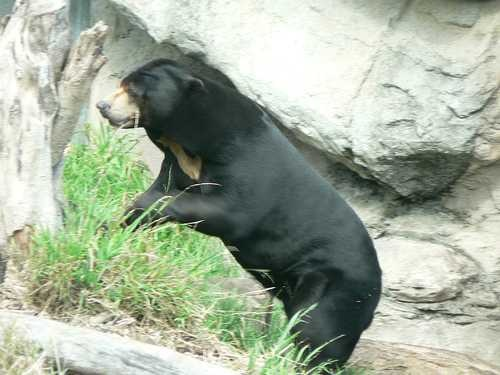bear: (87, 37, 215, 165)
